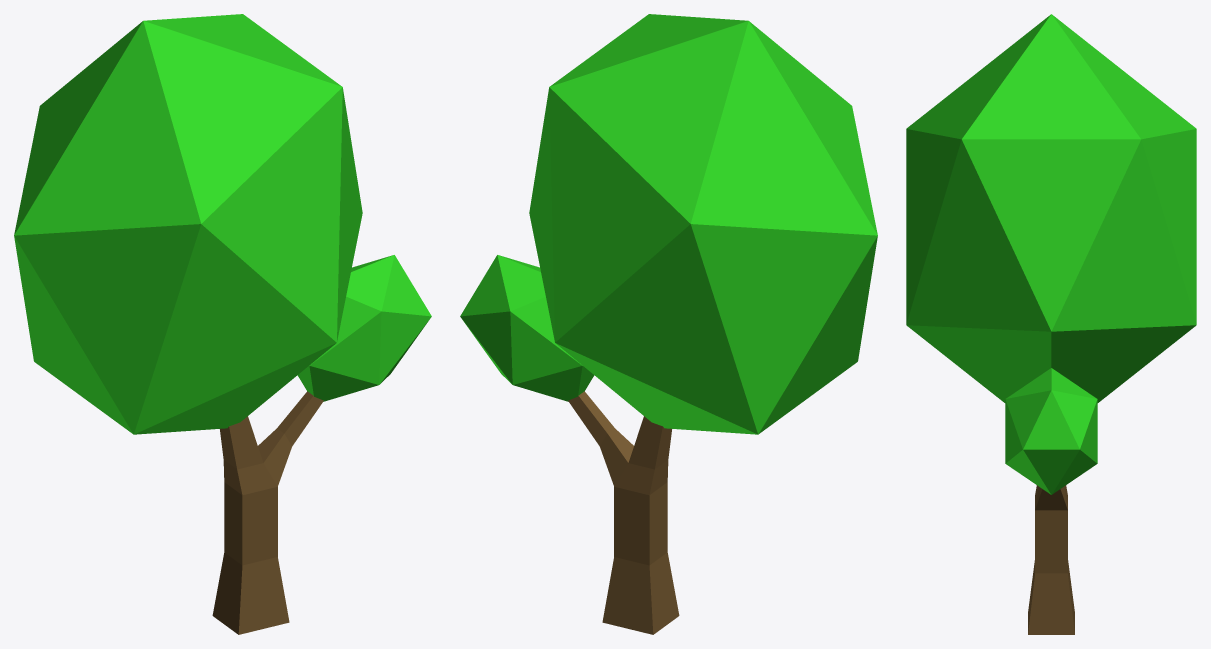
Rendered from Tree2.fbx.
3 views of the same model, side by side, from view 1: azimuth 30°, elevation 25°; view 2: azimuth 150°, elevation 25°; view 3: azimuth 270°, elevation 25° (orthographic). The views are drawn at different scales.
Parts seen in each view (by area): view 1: Tree.005; view 2: Tree.005; view 3: Tree.005.
Part boxes in pixels (<box>): Tree.005: <box>14,14,431,634</box>; Tree.005: <box>460,14,877,634</box>; Tree.005: <box>906,14,1196,634</box>.
Bounding box in the file's own units: 402 × 597 × 280.
